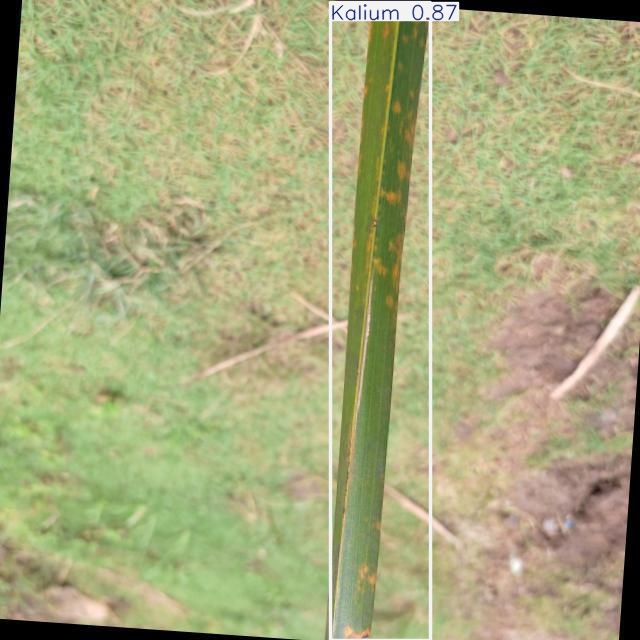Kalium: (330, 2, 431, 640)
